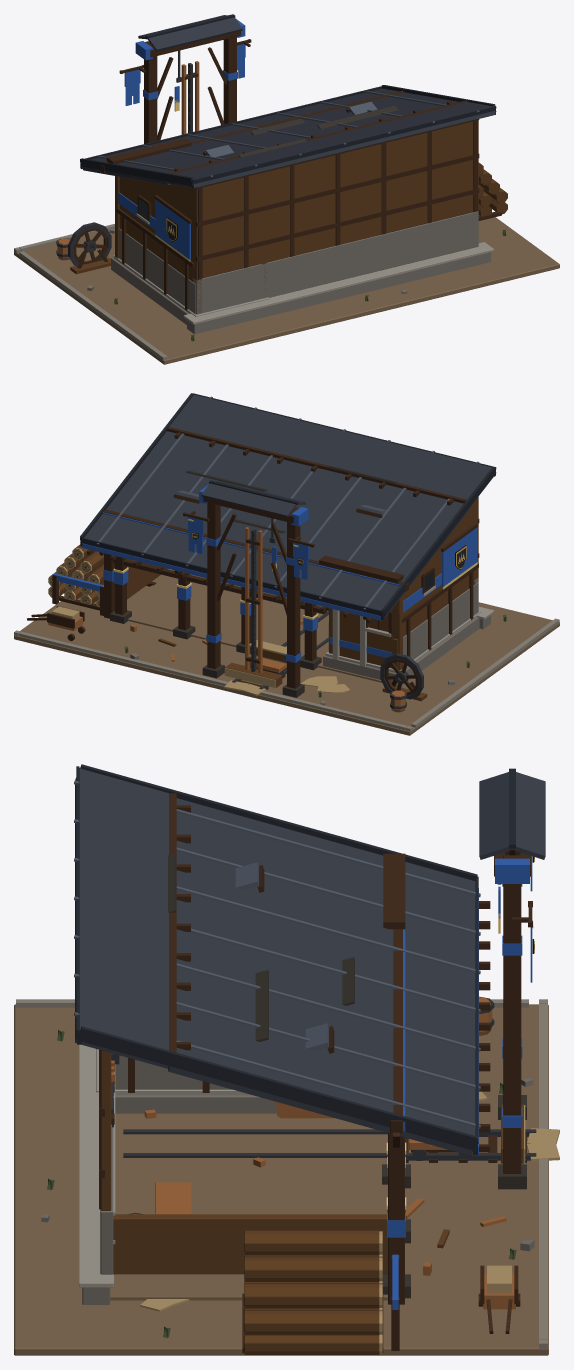
File: 伐木场_手游_近.glb
3 views of the same model, one above another, from view 1: azimuth 30°, elevation 25°; view 2: azimuth 150°, elevation 25°; view 3: azimuth 270°, elevation 25° (orthographic). The views are drawn at different scales.
Visible parts, largest first — view 1: LM-主体, LM-team; view 2: LM-主体, LM-team; view 3: LM-主体, LM-team.
Boxes of the visible parts, x1,y1,x2,y2 form: LM-主体: (14, 14, 559, 364); LM-team: (118, 18, 245, 259); LM-主体: (14, 393, 559, 735); LM-team: (52, 484, 477, 662); LM-主体: (14, 764, 559, 1355); LM-team: (387, 856, 532, 1309).
Bounding box in the file's own units: 16.81 × 7.72 × 10.92.
4 materials, 2 textured.
